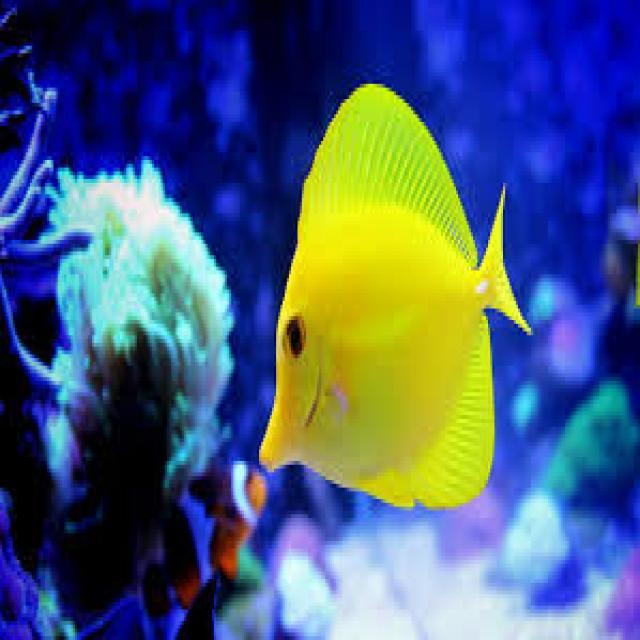YellowTang: (243, 72, 545, 565)
